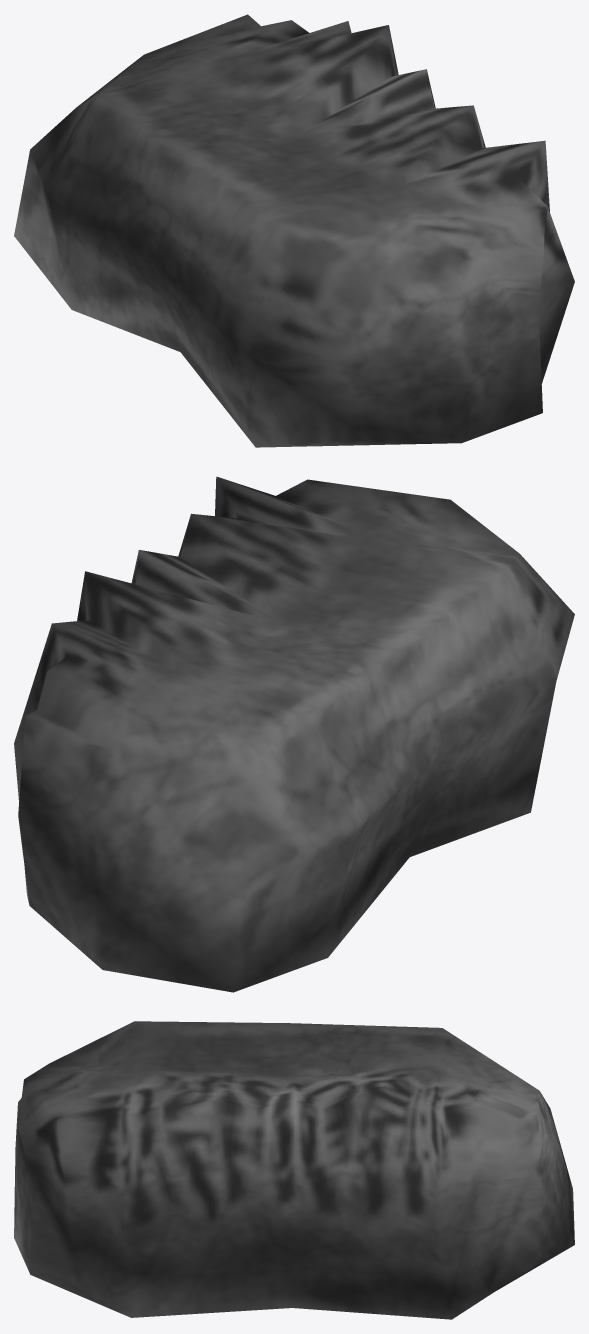
Rendered from serrated_stone.fbx.
The picture shows the model from 3 angles, top to bottom: view 1: azimuth 30°, elevation 25°; view 2: azimuth 150°, elevation 25°; view 3: azimuth 270°, elevation 25°; orthographic projection. The views are drawn at different scales.
Parts seen in each view (by area): view 1: serratedstone; view 2: serratedstone; view 3: serratedstone.
Boxes of the visible parts, x1=… form: serratedstone: x1=14, y1=14, x2=574, y2=447; serratedstone: x1=14, y1=476, x2=574, y2=992; serratedstone: x1=14, y1=1021, x2=574, y2=1319.
Size of the model in its own units: 48.1 by 37.59 by 85.13.
